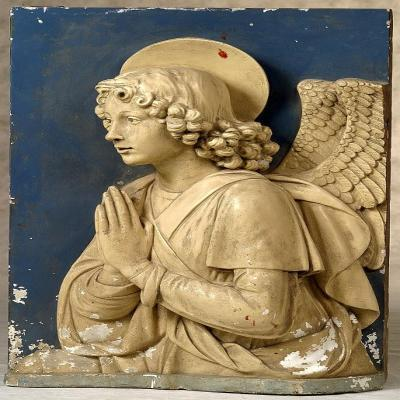sculpture: (19, 10, 390, 396)
